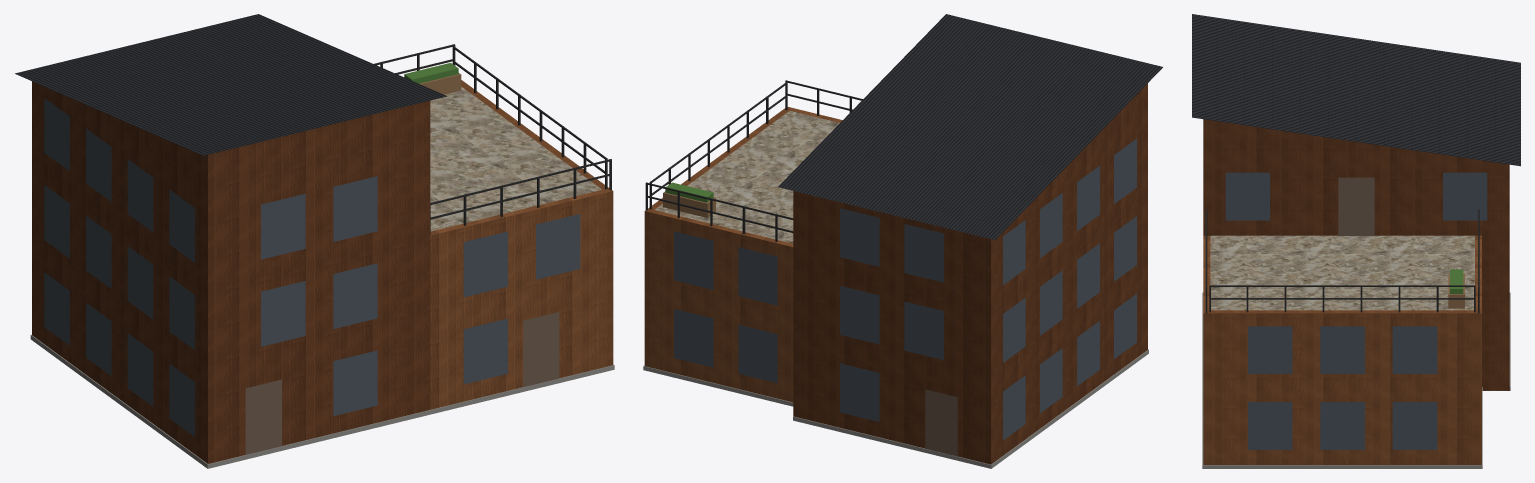
The model's file is rw-split-modern.towns-v1.lod1.glb.
3 views of the same model, side by side, from view 1: azimuth 30°, elevation 25°; view 2: azimuth 150°, elevation 25°; view 3: azimuth 270°, elevation 25° (orthographic). The views are drawn at different scales.
Visible parts, largest first — view 1: rw-split-modern; view 2: rw-split-modern; view 3: rw-split-modern.
Part boxes in pixels (x1,y1,x2,y2): rw-split-modern: (15,14,614,468); rw-split-modern: (643,14,1162,468); rw-split-modern: (1192,14,1520,468).
Bounding box in the file's own units: 15.03 × 11.02 × 11.8.
Materials: 4 (3 with a texture image).
